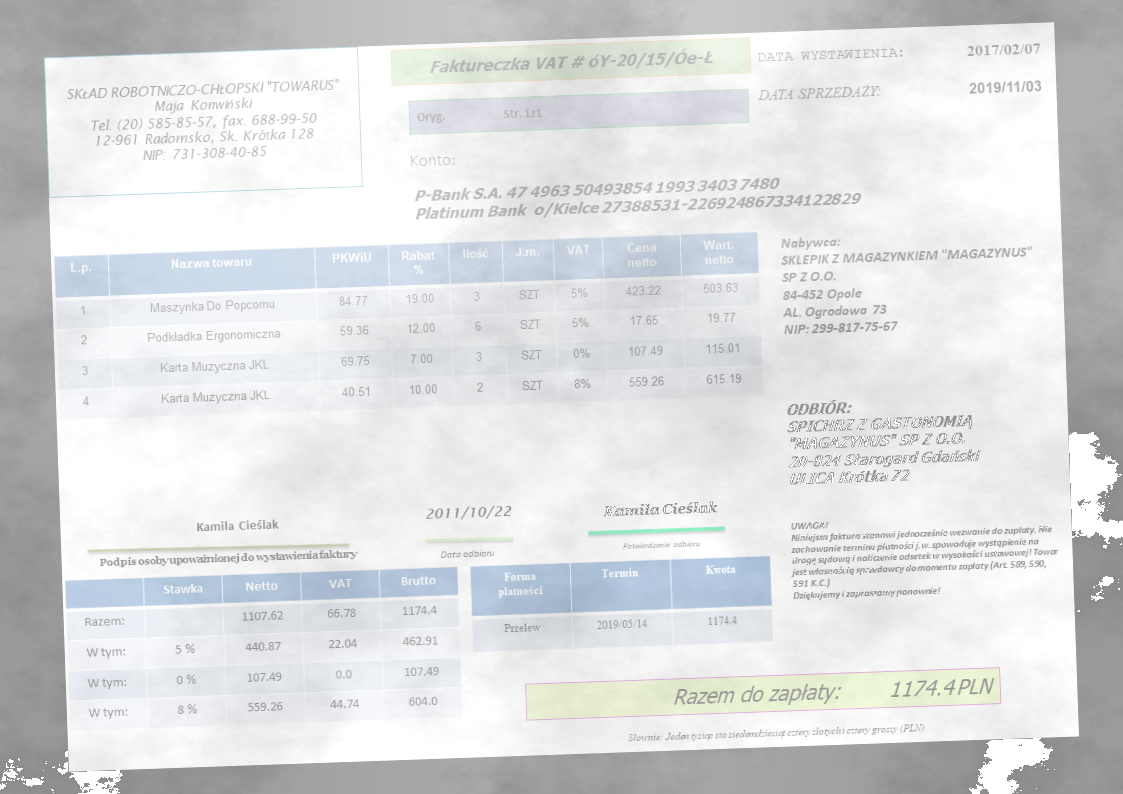Table: (53, 230, 764, 421), (64, 565, 465, 731), (469, 554, 774, 654)
TextBox: (778, 226, 1038, 339), (64, 75, 345, 166), (788, 511, 1063, 603), (411, 170, 862, 223), (785, 394, 985, 488), (671, 671, 998, 710), (427, 46, 716, 79), (626, 718, 927, 746), (96, 545, 360, 572), (753, 44, 906, 66), (414, 104, 543, 127), (756, 81, 884, 103), (602, 497, 721, 520), (423, 501, 514, 522), (965, 38, 1043, 61), (966, 76, 1044, 97), (193, 517, 280, 535), (620, 537, 701, 552), (407, 151, 457, 171), (438, 547, 495, 562)
